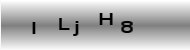8: (119, 20, 133, 33)
H: (98, 11, 113, 25)
L: (57, 17, 70, 31)
j: (72, 20, 79, 36)
l: (31, 20, 36, 35)
